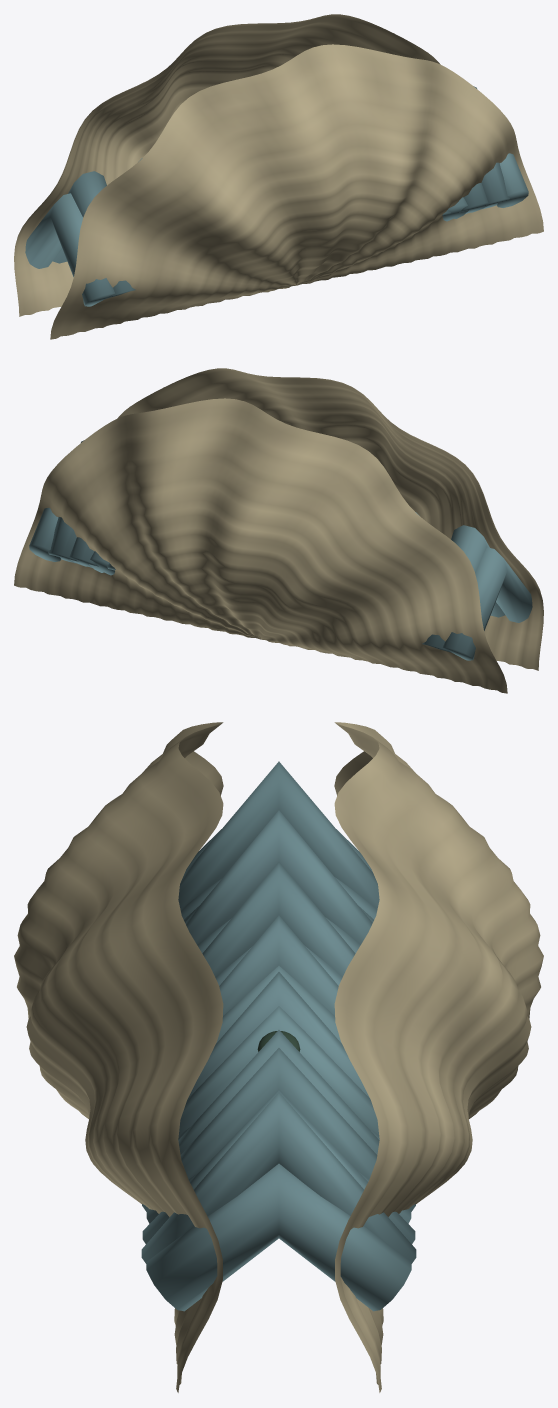
File: giantclam-desktop.glb
3 renders of one model, top to bottom at view 1: azimuth 30°, elevation 25°; view 2: azimuth 150°, elevation 25°; view 3: azimuth 270°, elevation 25°, orthographic. The views are drawn at different scales.
Parts seen in each view (by area): view 1: bivalve-valve, folded-mantle; view 2: bivalve-valve, folded-mantle; view 3: bivalve-valve, folded-mantle.
Boxes of the visible parts, box(x1,y1,x2,y2) form: bivalve-valve: box(14, 14, 543, 339); folded-mantle: box(25, 86, 528, 306); bivalve-valve: box(14, 368, 543, 693); folded-mantle: box(29, 440, 532, 660); bivalve-valve: box(14, 722, 543, 1392); folded-mantle: box(141, 761, 416, 1311).
Bounding box in the file's own units: 0.7 × 0.32 × 0.3737.
